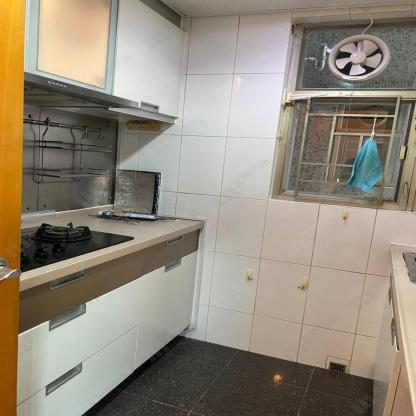Cupboard: (16, 229, 201, 416), (21, 0, 187, 117)
Exhaust Fan: (325, 30, 396, 79)
Stove: (21, 222, 136, 272)
